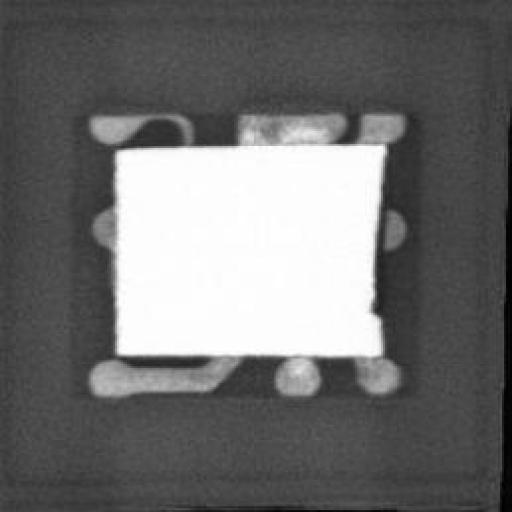DIE_BROKEN: (363, 157, 387, 317)
